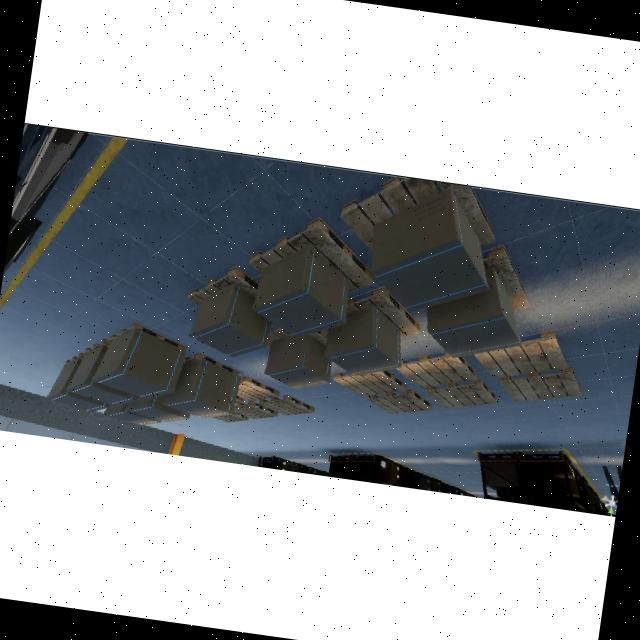wooden_pallet: (338, 175, 497, 253), (248, 216, 376, 294), (474, 332, 569, 380), (395, 351, 478, 388), (187, 266, 260, 308), (500, 368, 585, 403), (424, 378, 499, 409), (108, 322, 188, 351), (333, 370, 408, 398), (369, 389, 434, 415), (184, 353, 240, 376), (259, 395, 316, 417), (237, 375, 280, 402), (232, 401, 279, 421), (212, 412, 249, 424)
